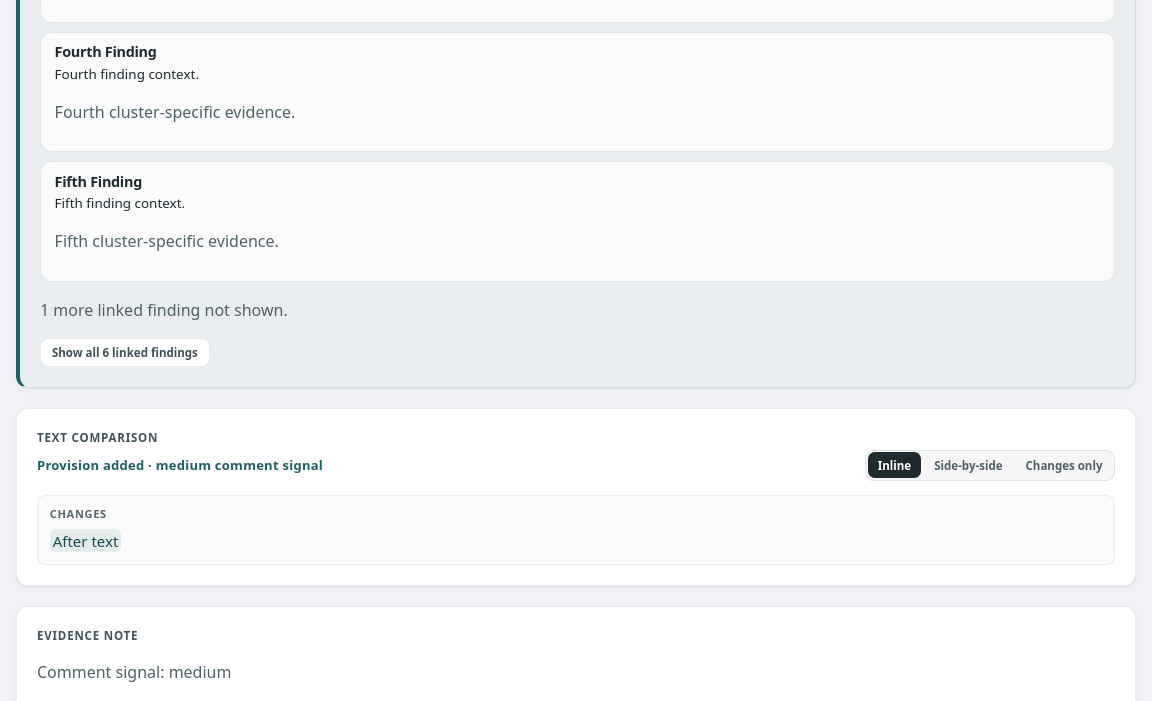
Test case: App routes › renders a deep-linked card detail page
(page scrolled)
expect the text "1 more linked finding not shown." is shown: met, box [40,299,288,321]
expect the text "Sixth Hidden Finding" is not shown: met
Click the button "Show all 6 linked findings". click: click(125, 352)
box: [40,338,210,367]
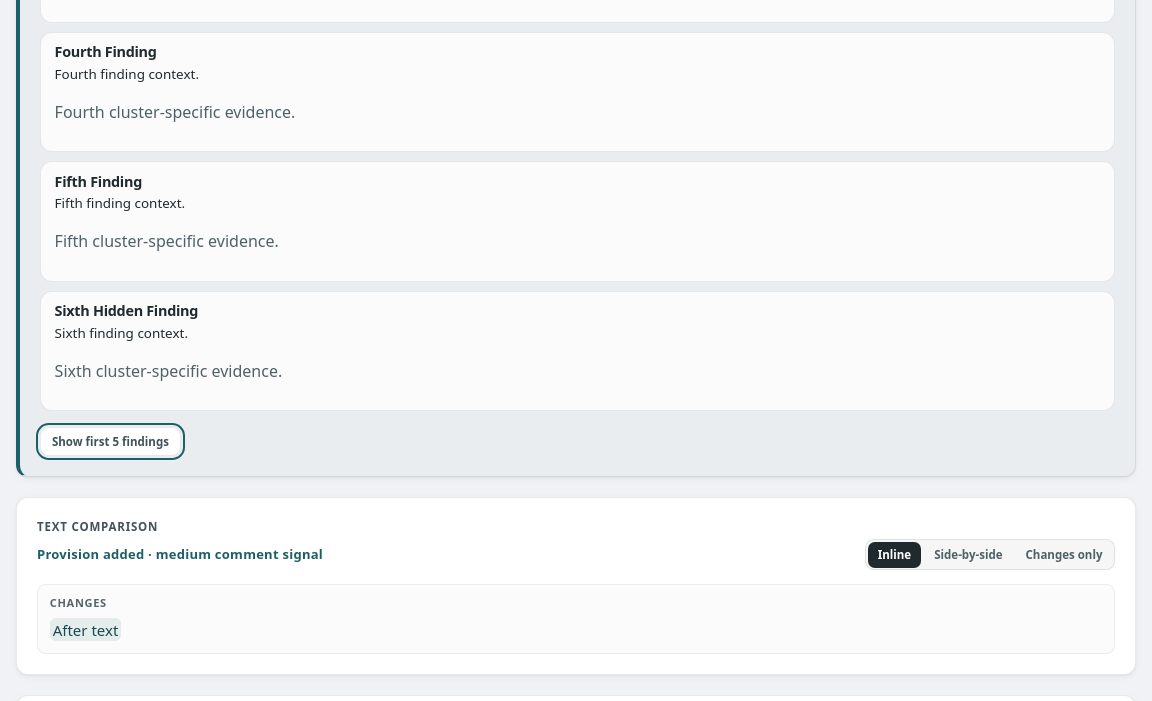
expect the heading "Sixth Hidden Finding" is shown: met, box [55,301,198,320]
Click the button "Show first 5 findings". click: click(110, 442)
box: [40,427,181,456]
(page scrolled)
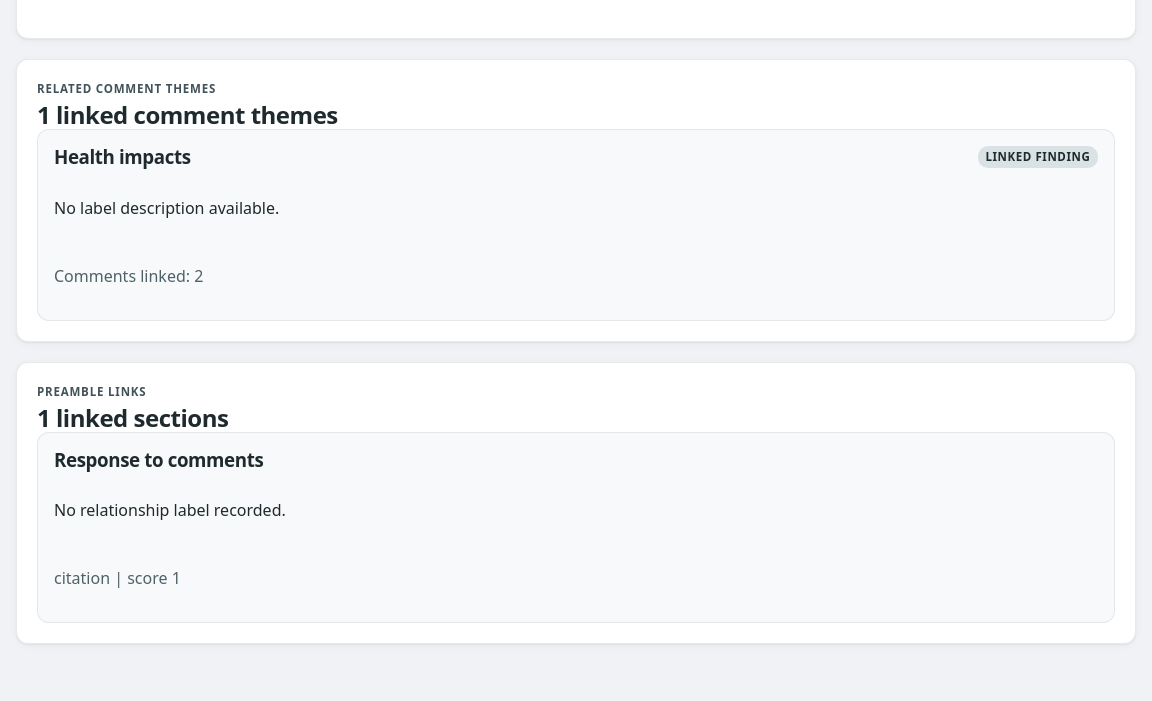
expect the heading "Health impacts" is shown: met, box [54,146,191,167]
expect the heading "Sixth Hidden Finding" is gone: met
